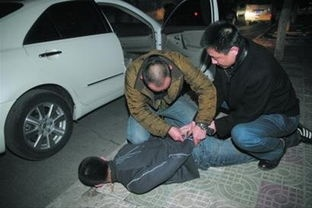falling: (73, 116, 272, 199)
